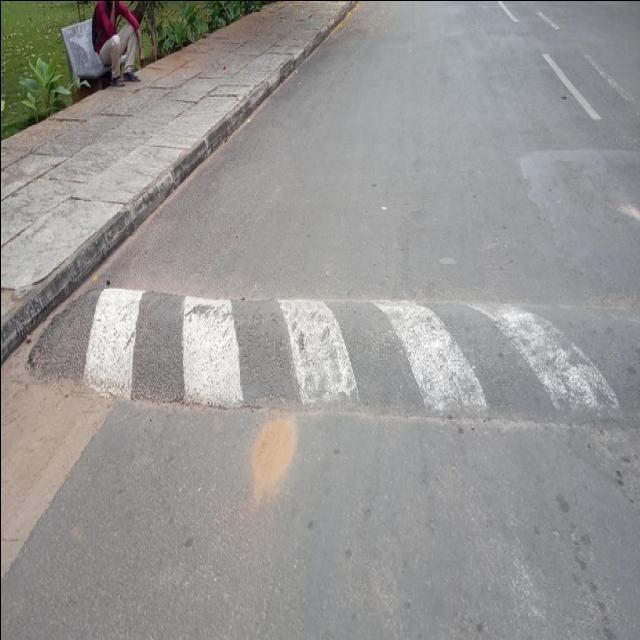Marked Bump: (90, 260, 627, 447)
